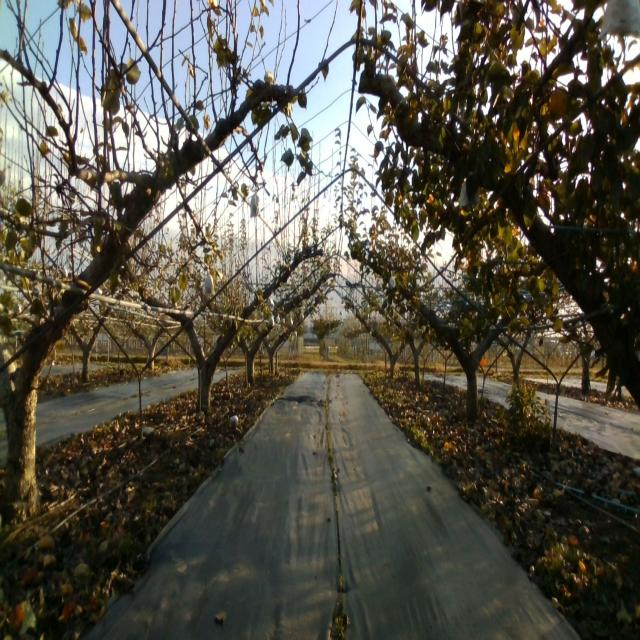pearbags: (203, 268, 215, 297), (249, 192, 260, 218)
